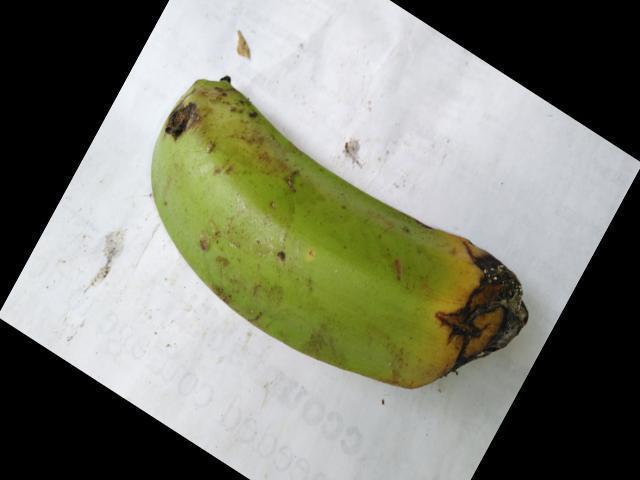rotten: (378, 205, 523, 372)
unripe: (142, 74, 444, 404)
